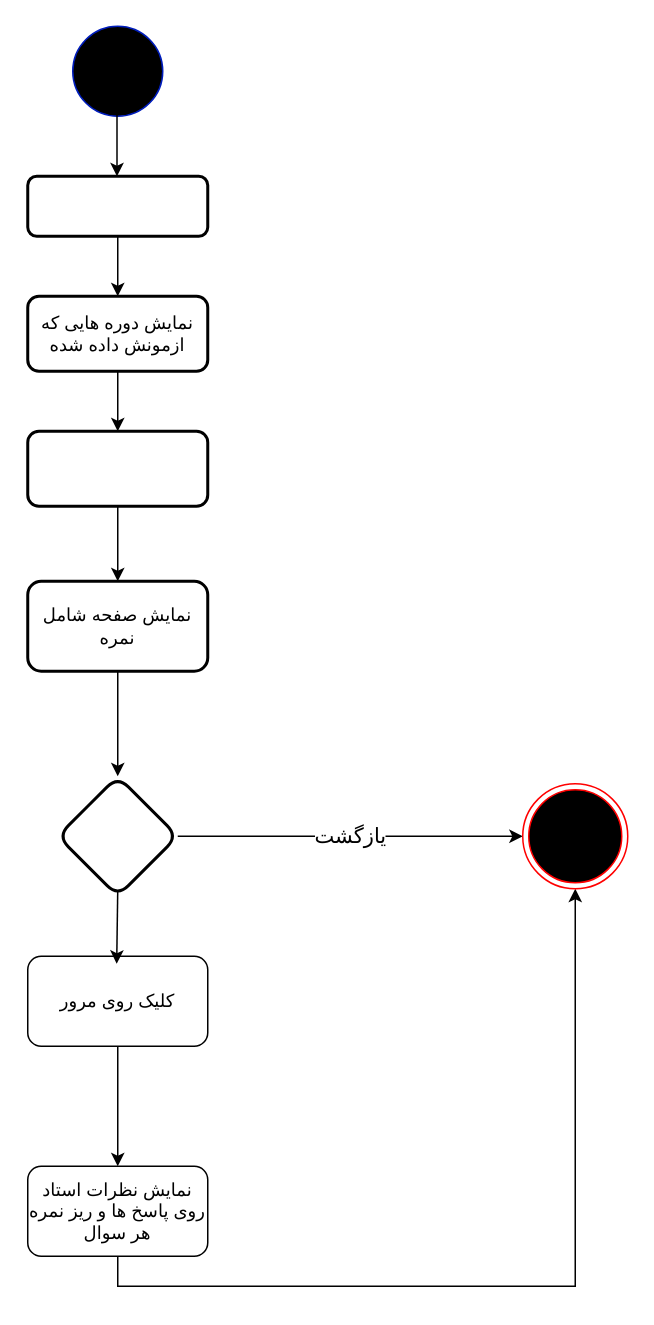
Some shapes in this 654 by 1325 pixel diagram are drawn without their labels. Here are the shapes that lost their labels. From the top down, the box of each, then its label:
(26, 174, 208, 237): کلیک رو نتیجه آزمون
(26, 429, 208, 507): انتخاب دوره مورد نظر
